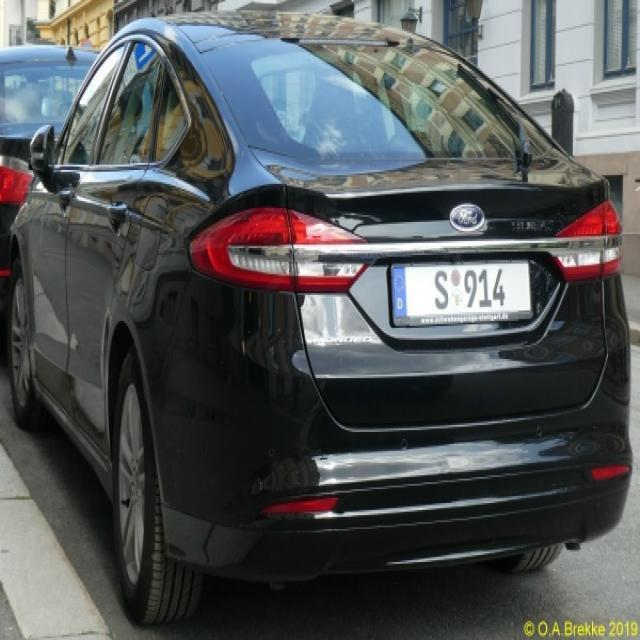License_Plate: (390, 258, 531, 326)
